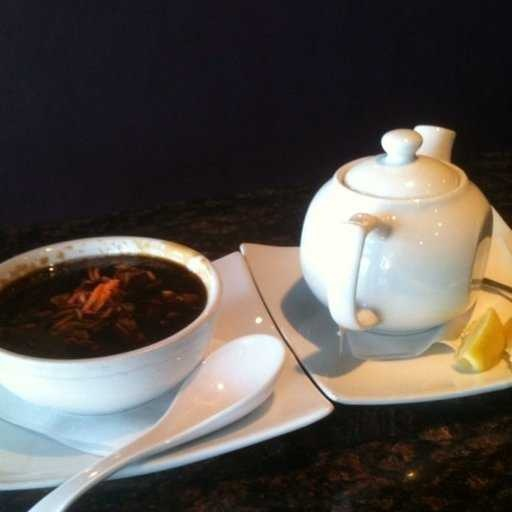soup: (4, 254, 193, 350)
